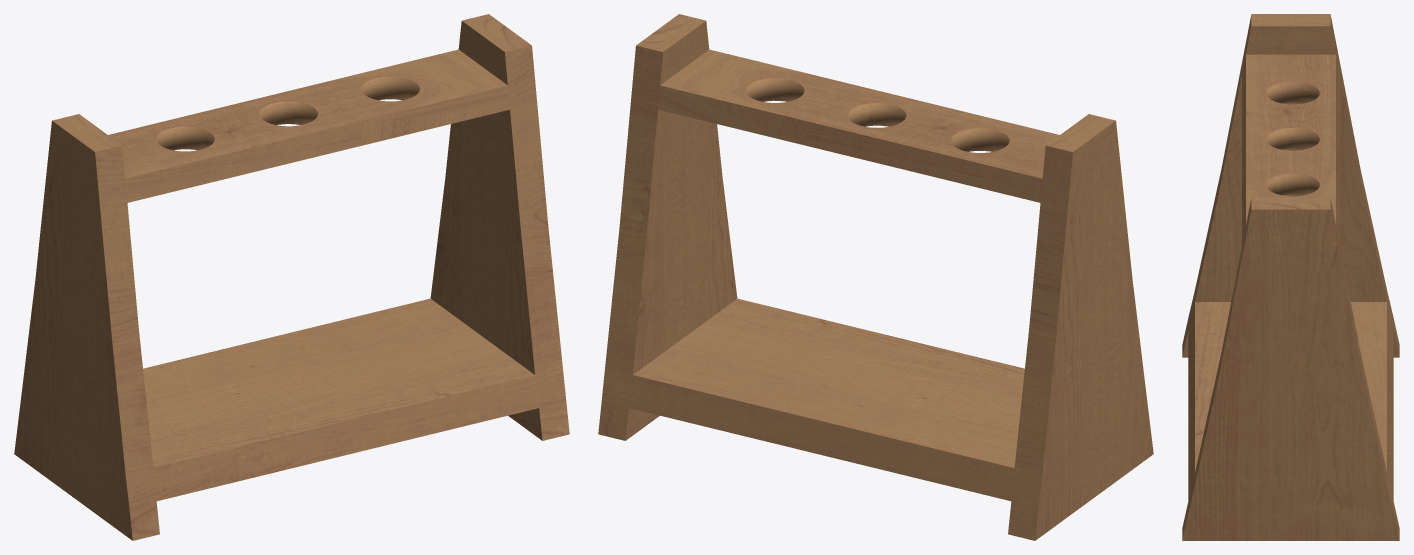
Rendered from Rack.fbx.
The picture shows the model from 3 angles, left to right: view 1: azimuth 30°, elevation 25°; view 2: azimuth 150°, elevation 25°; view 3: azimuth 270°, elevation 25°; orthographic projection. The views are drawn at different scales.
Parts seen in each view (by area): view 1: Tube-Rack; view 2: Tube-Rack; view 3: Tube-Rack.
Part boxes in pixels (<box>): Tube-Rack: <box>14,14,569,540</box>; Tube-Rack: <box>598,14,1153,540</box>; Tube-Rack: <box>1182,14,1399,540</box>.
Size of the model in its own units: 429 by 339 by 201.
